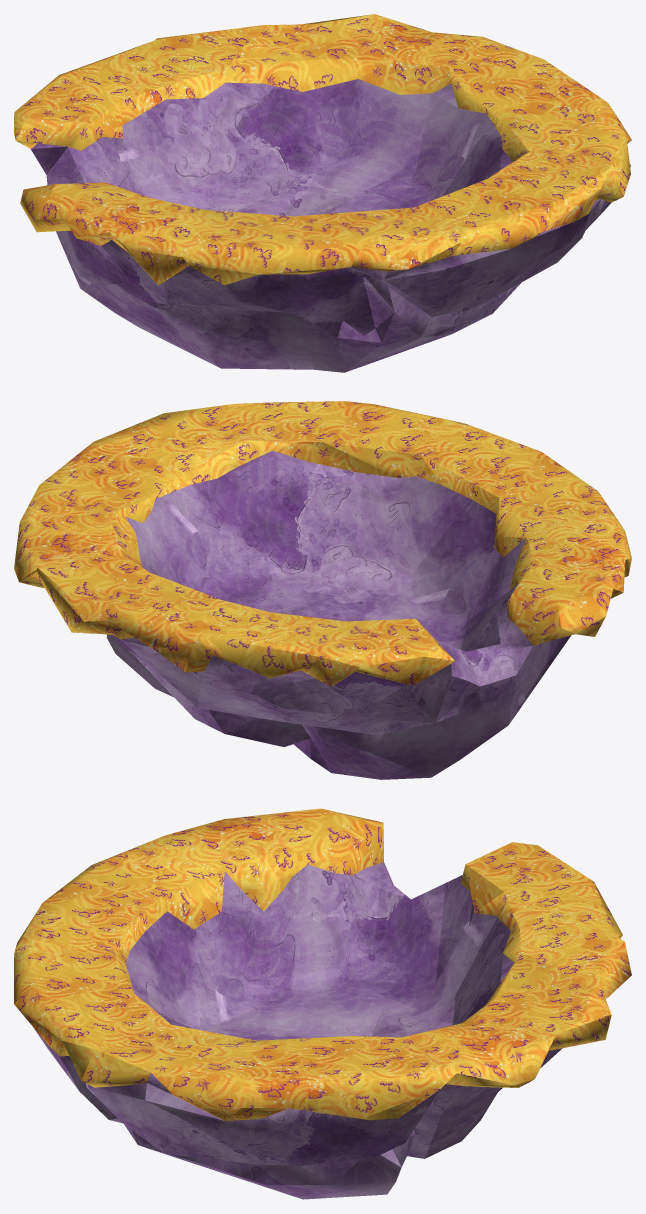
File: entity46550.gltf
The picture shows the model from 3 angles, top to bottom: view 1: azimuth 30°, elevation 25°; view 2: azimuth 150°, elevation 25°; view 3: azimuth 270°, elevation 25°; orthographic projection. The views are drawn at different scales.
Visible parts, largest first — view 1: node_Terrain_Island_02; view 2: node_Terrain_Island_02; view 3: node_Terrain_Island_02.
Part boxes in pixels (box(x1,y1,x2,y2)): node_Terrain_Island_02: box(14, 14, 631, 372); node_Terrain_Island_02: box(14, 401, 631, 779); node_Terrain_Island_02: box(14, 808, 631, 1199).
Size of what is drawn, in the model's own units: 17.74 by 6.25 by 16.26.
